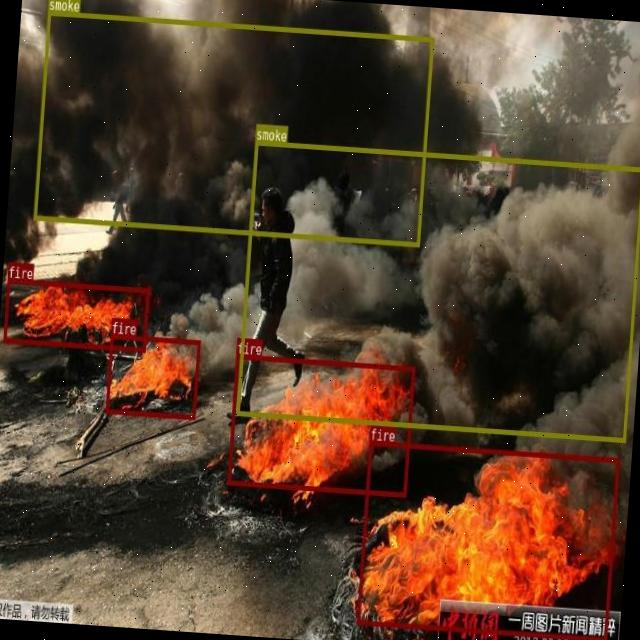fire: (356, 439, 619, 640), (226, 354, 414, 496), (2, 278, 149, 352), (104, 334, 199, 418)
smoke: (235, 139, 640, 442), (32, 9, 433, 246)
